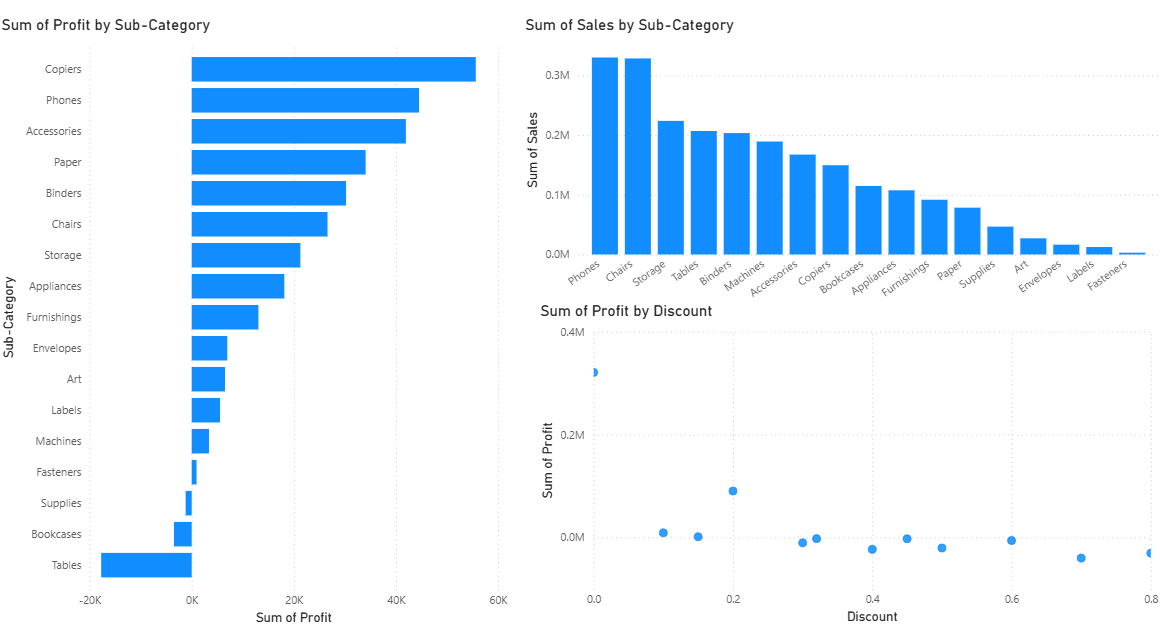

The page's visual inventory and layout, read from the dashboard file:
{"tool":"powerbi","page":{"name":"product perfomace","canvas":[1280,720],"ordinal":1},"visuals":[{"type":"clusteredBarChart","fields":{"Category":["SampleSuperstore.Sub-Category"],"Y":["Sum(SampleSuperstore.Profit)"]},"box":[0,46.7,565.4,673.8],"z":0},{"type":"columnChart","fields":{"Y":["Sum(SampleSuperstore.Sales)"],"Category":["SampleSuperstore.Sub-Category"]},"box":[574.4,47,705.6,346.4],"z":1000},{"type":"scatterChart","fields":{"X":["SampleSuperstore.Discount"],"Y":["Sum(SampleSuperstore.Profit)"]},"box":[591.5,360.6,688.5,359.2],"z":2000}]}

Visuals, with their boxes on the page's 1280x720 design canvas (x1, y1, x2, y2). These are canvas units, not pixel positions in the 1160x627 screenshot, which may show the page scaled, cropped or inside an application window:
clusteredBarChart - SampleSuperstore.Sub-Category x Sum(SampleSuperstore.Profit): <bbox>0, 47, 565, 720</bbox>
columnChart - Sum(SampleSuperstore.Sales) x SampleSuperstore.Sub-Category: <bbox>574, 47, 1280, 393</bbox>
scatterChart - SampleSuperstore.Discount x Sum(SampleSuperstore.Profit): <bbox>592, 361, 1280, 720</bbox>
